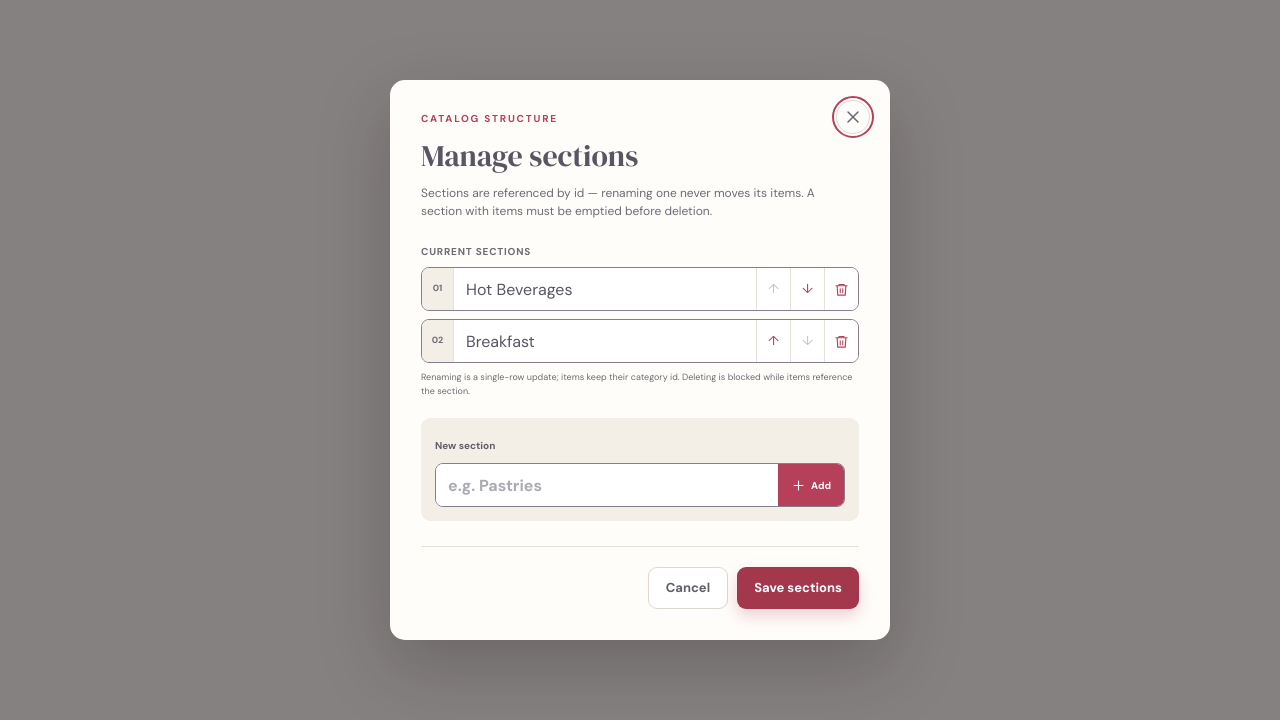
Test: SectionsModal delete flow › offers to move items when the category is not empty
The image size is (1280, 720).
Later steps or results of the test are not shown.
Click the button named "delete hot beverages".
click(841, 289)  # box top-left (824, 268), bottom-right (858, 310)
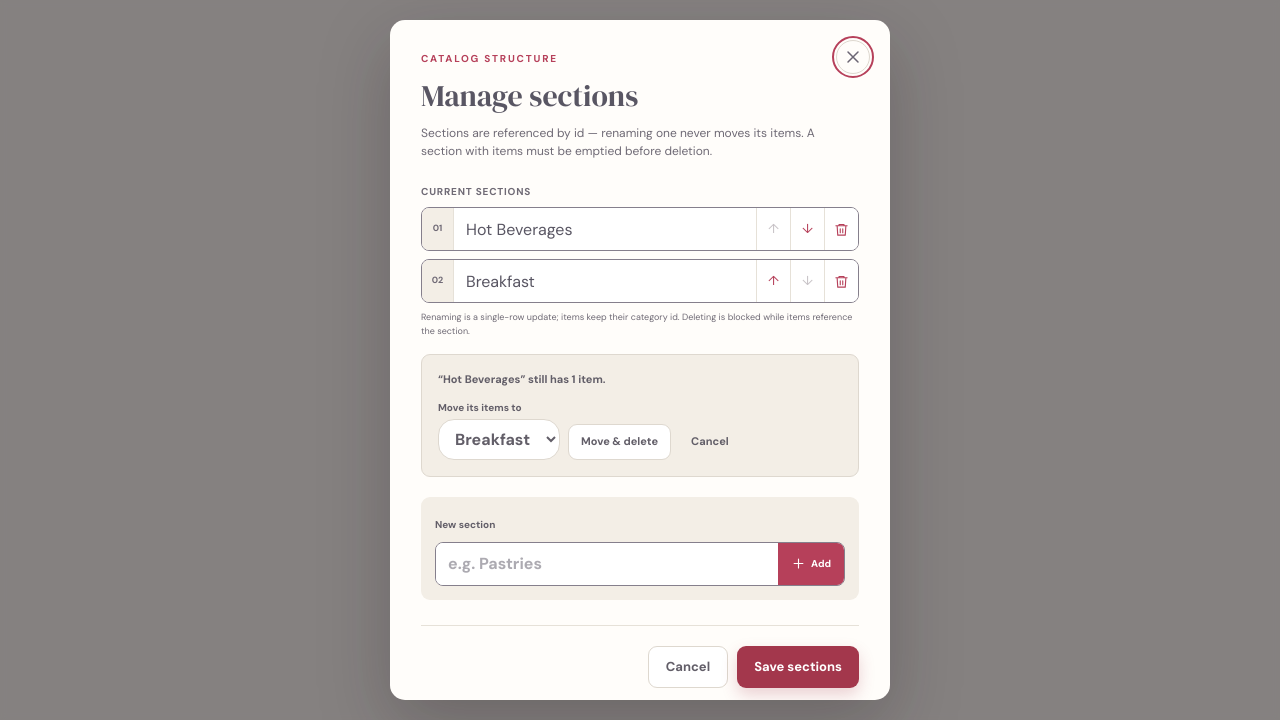
Expected: the text "“Hot Beverages” still has 1 item." is shown, top-left (438, 372), bottom-right (606, 386)
